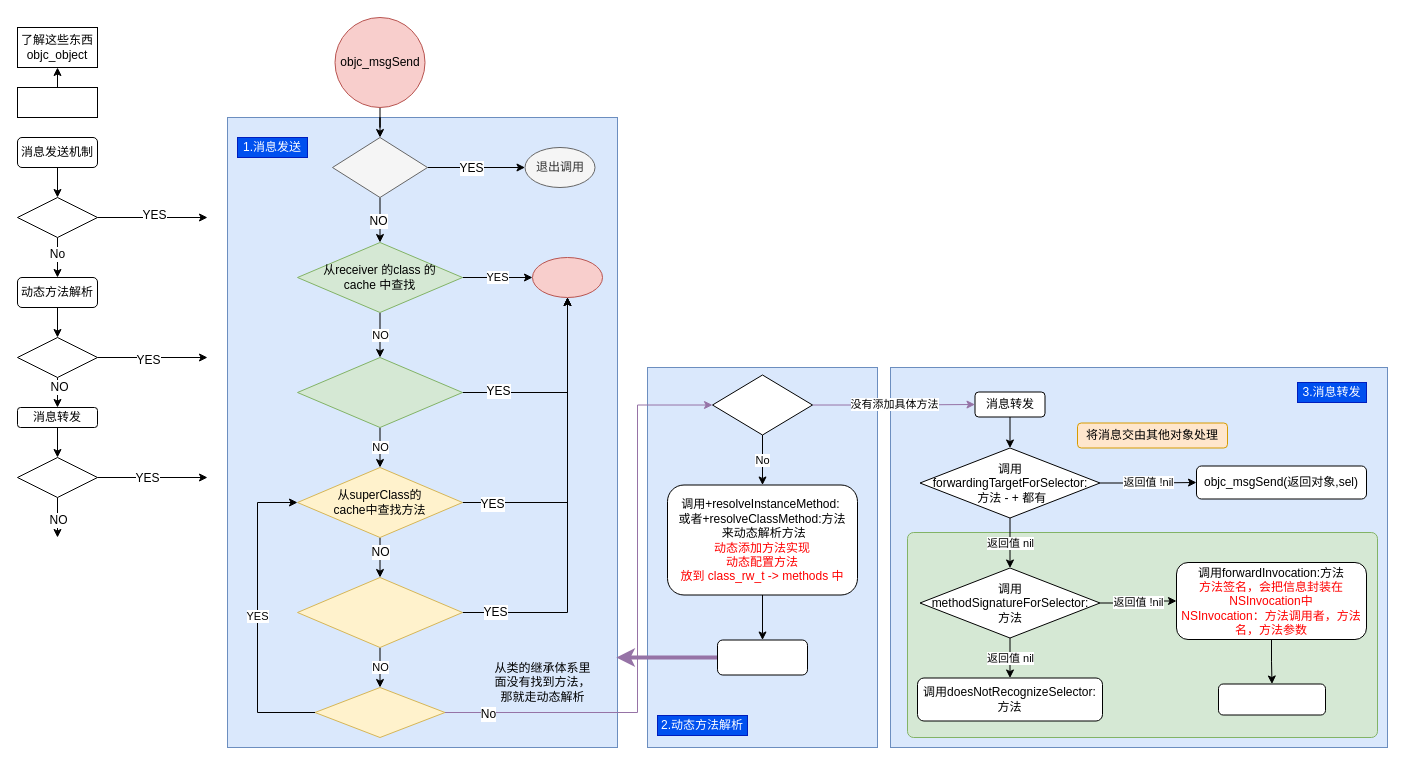
This 1405x765 diagram has some shape labels left out. The centre of each missing label's shape, as x and y in pixels:
forwardInvocation 想做什么都可以: the point at 1272,699
objc_class: the point at 57,102
receiver == nil: the point at 380,167
retry 消息发送机制流程: the point at 762,657
上层是否还有 superClass: the point at 379,712
从reveiverClass的 class_rw_t中查找方法: the point at 379,392
从superClass的 class_rw_t中查找方法: the point at 379,612
是否曾经 有动态解析: the point at 762,404
调用方法结束: the point at 567,277
